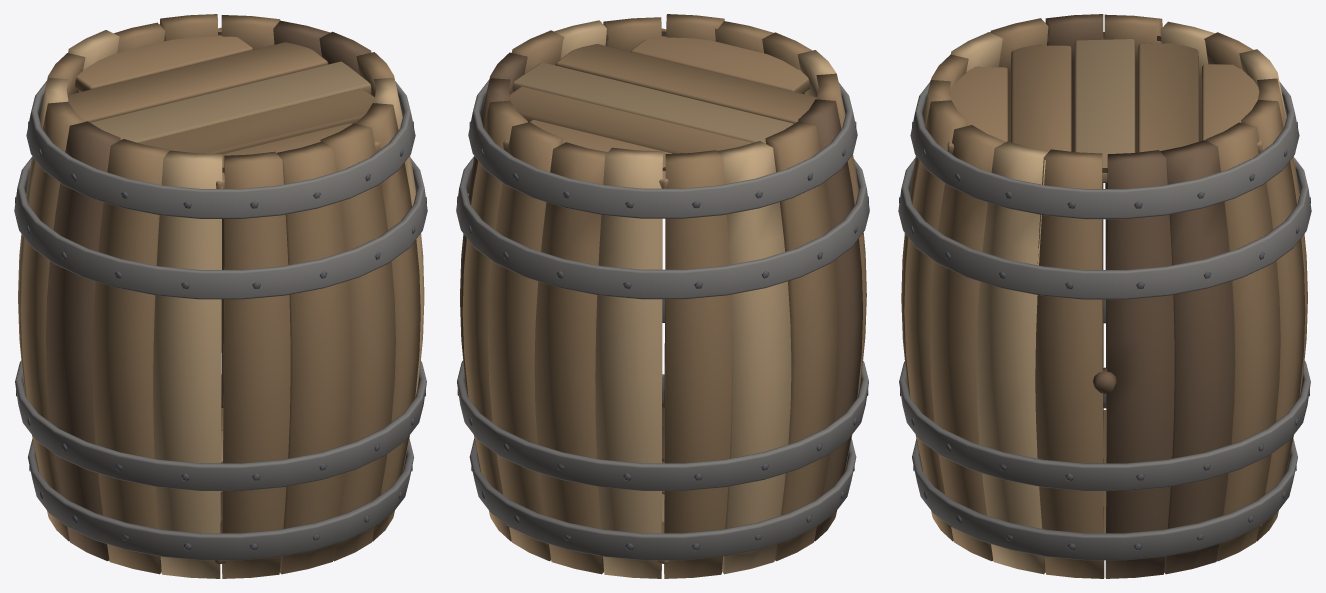
File: barrel.973abe0d.glb
The picture shows the model from 3 angles, left to right: view 1: azimuth 30°, elevation 25°; view 2: azimuth 150°, elevation 25°; view 3: azimuth 270°, elevation 25°; orthographic projection.
Visible parts, largest first — view 1: barrel; view 2: barrel; view 3: barrel.
Part boxes in pixels (bbox=[...]): barrel: bbox=[14, 14, 427, 578]; barrel: bbox=[456, 14, 869, 578]; barrel: bbox=[898, 14, 1311, 578].
Bounding box in the file's own units: 0.9064 × 1 × 0.8981.
